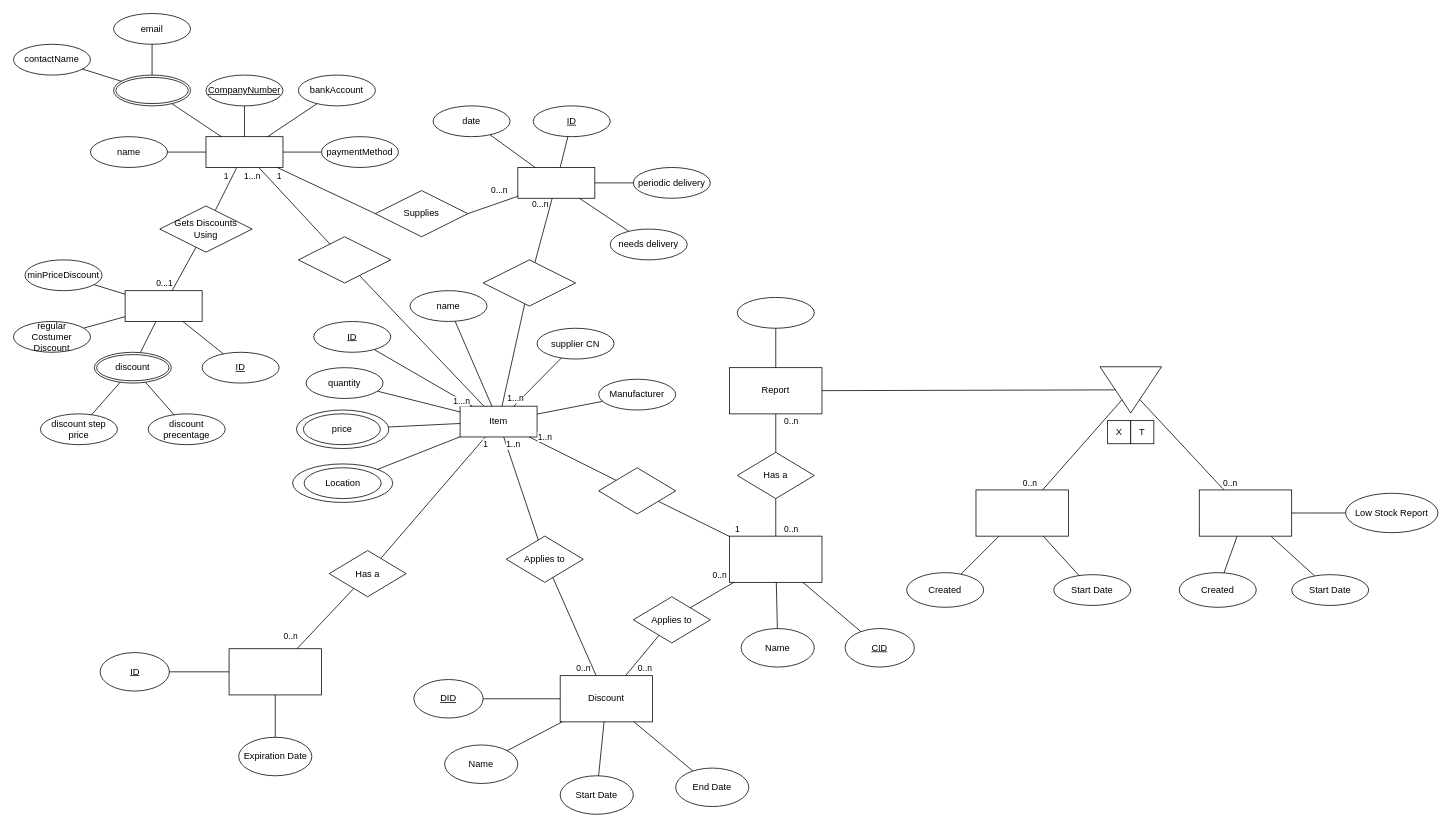
Image size: 1451x828. Some labels were removed from this diagram. Each missing label, with the box of its shape:
Belongs to: (598, 467, 676, 514)
Category: (729, 535, 822, 582)
Contact: (113, 74, 191, 106)
Contains: (482, 259, 576, 306)
Invalid Report: (1199, 489, 1292, 536)
IS A: (1099, 366, 1162, 413)
Order: (517, 167, 595, 198)
Quantity Writer: (124, 290, 202, 321)
RID: (737, 297, 814, 328)
Sells: (298, 236, 391, 283)
Specific Product: (228, 648, 321, 695)
Stock Report: (975, 489, 1068, 536)
Supplier: (205, 136, 283, 167)
